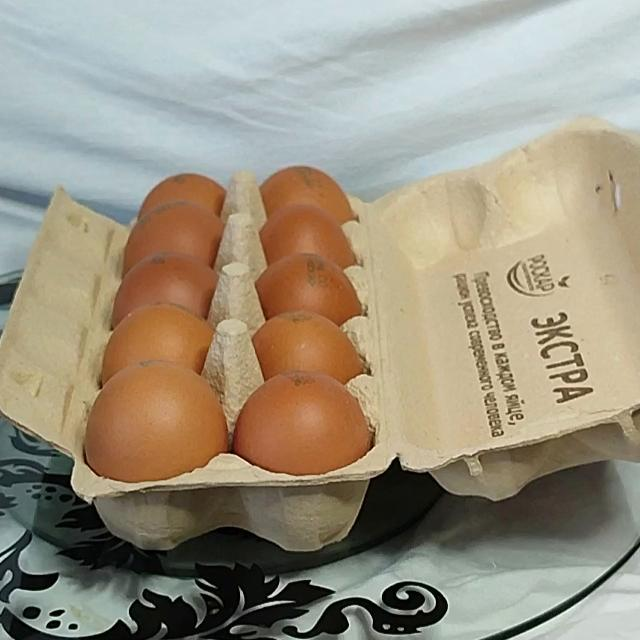egg: (0, 113, 640, 603)
